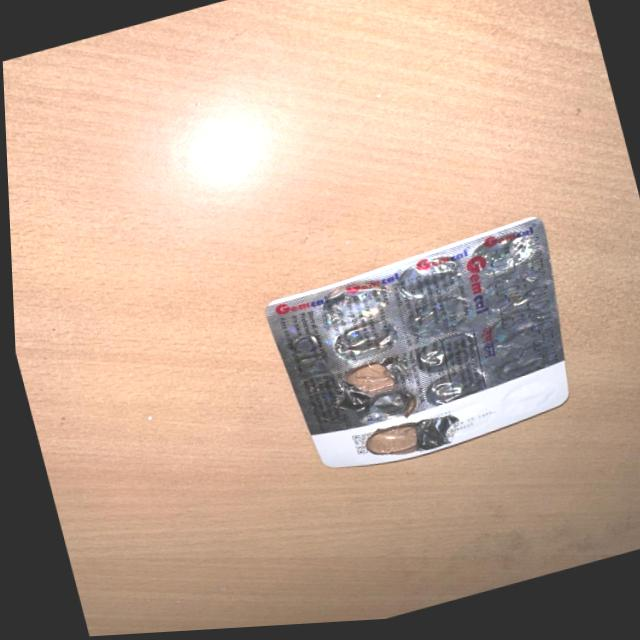medicine: (251, 214, 570, 488)
